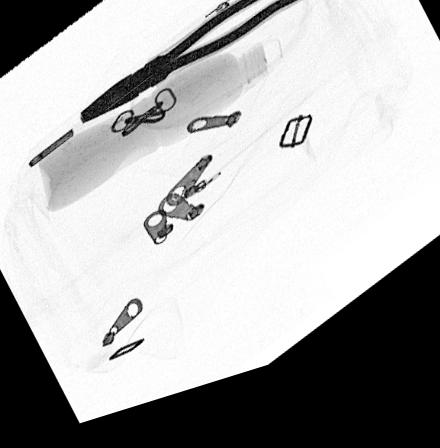Pliers: (76, 0, 314, 133)
